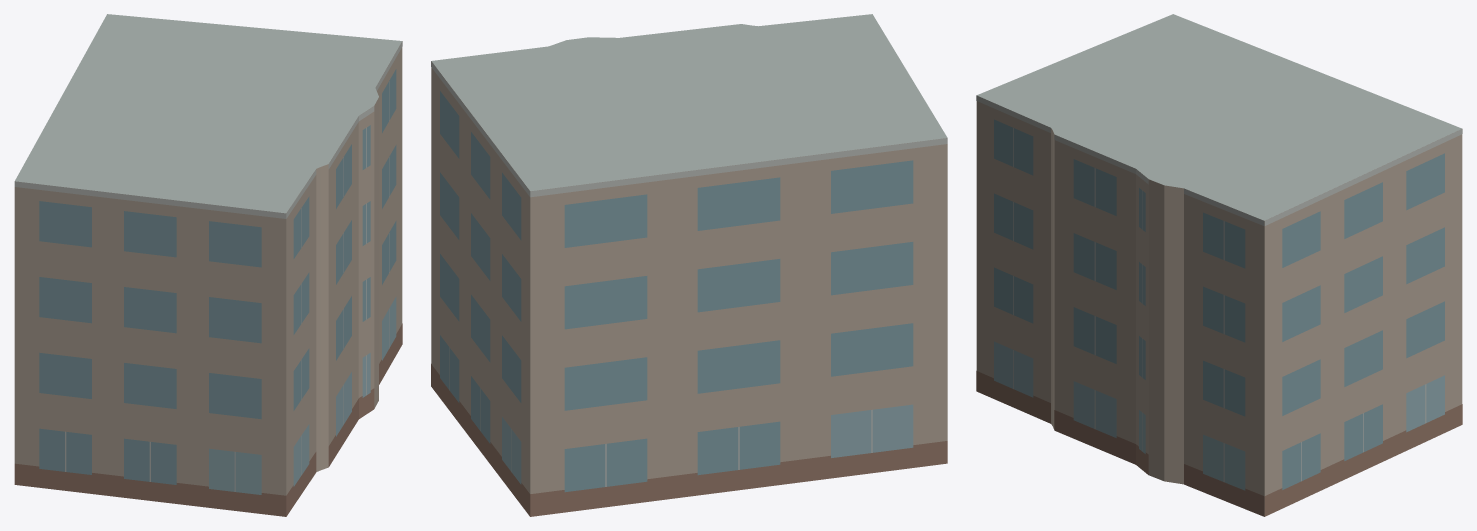
Rendered from survey-upis-32821116.glb.
The picture shows the model from 3 angles, left to right: view 1: azimuth 30°, elevation 25°; view 2: azimuth 150°, elevation 25°; view 3: azimuth 270°, elevation 25°; orthographic projection. The views are drawn at different scales.
Parts seen in each view (by area): view 1: survey-upis-32821116.tmp; view 2: survey-upis-32821116.tmp; view 3: survey-upis-32821116.tmp.
Part boxes in pixels (left/top/right/bottom): survey-upis-32821116.tmp: left=14, top=14, right=402, bottom=516; survey-upis-32821116.tmp: left=431, top=14, right=947, bottom=516; survey-upis-32821116.tmp: left=976, top=14, right=1462, bottom=516.
Size of the model in its own units: 19.71 by 13.15 by 19.57.
